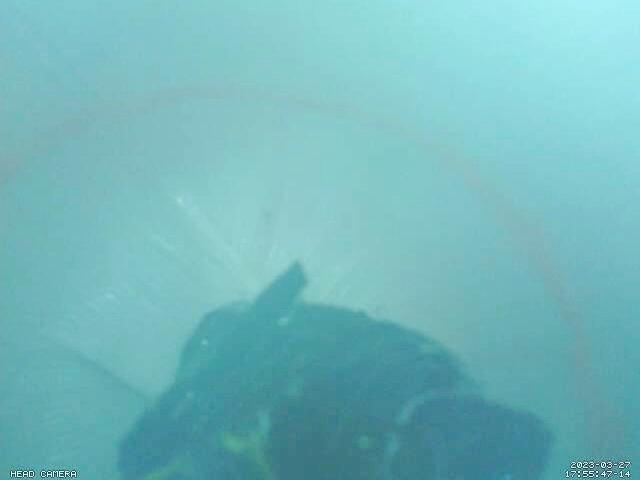head: (1, 85, 600, 480)
